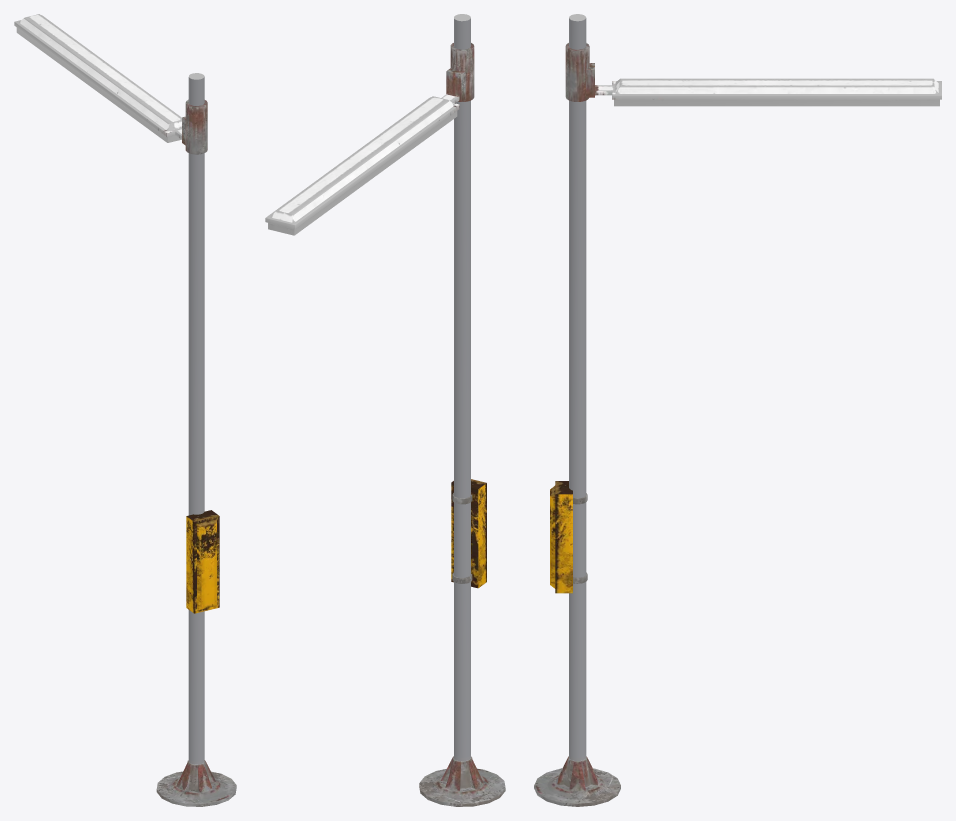
File: lamp-transformed.glb
3 renders of one model, left to right at view 1: azimuth 30°, elevation 25°; view 2: azimuth 150°, elevation 25°; view 3: azimuth 270°, elevation 25°, orthographic. The views are drawn at different scales.
Parts seen in each view (by area): view 1: Lamp; view 2: Lamp; view 3: Lamp.
Part boxes in pixels (box(x1,y1,x2,y2)): Lamp: box(14, 14, 236, 806); Lamp: box(265, 14, 505, 806); Lamp: box(534, 14, 941, 806).
Size of the model in its own units: 1.32 by 12.9 by 6.18.
Materials: 1 (1 with a texture image).
